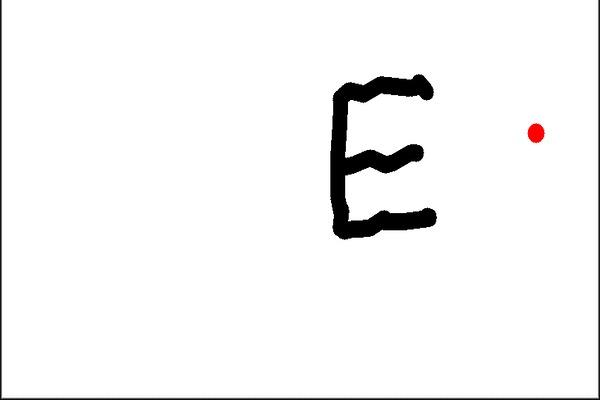E: (323, 69, 442, 243)
